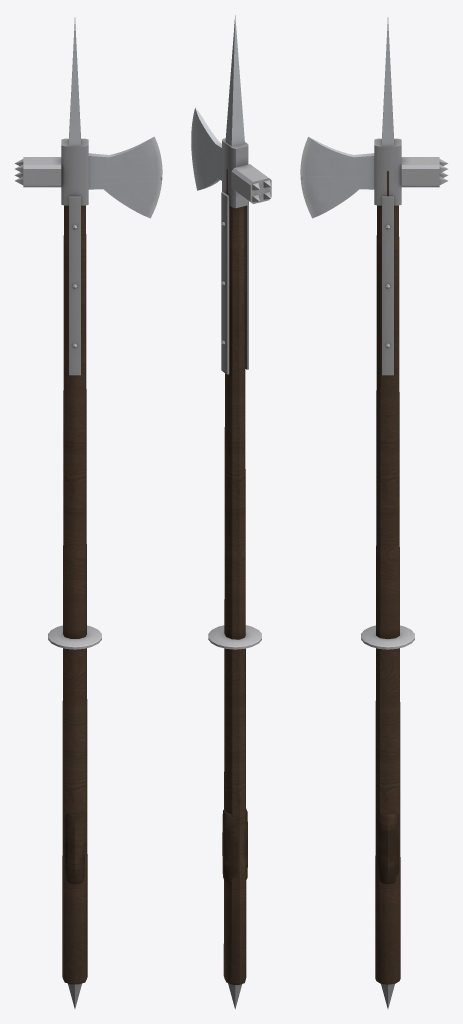
Rendered from poleaxe.glb.
3 views of the same model, side by side, from view 1: azimuth 90°, elevation 25°; view 2: azimuth 210°, elevation 25°; view 3: azimuth 270°, elevation 25° (orthographic).
Parts seen in each view (by area): view 1: SM_V_poleaxe, SM_V_poleaxe_Faste; view 2: SM_V_poleaxe, SM_V_poleaxe_Faste; view 3: SM_V_poleaxe, SM_V_poleaxe_Faste.
Part boxes in pixels (<box>): SM_V_poleaxe: <box>14,17,162,1008</box>; SM_V_poleaxe_Faste: <box>48,224,101,649</box>; SM_V_poleaxe: <box>191,15,271,1009</box>; SM_V_poleaxe_Faste: <box>208,222,261,649</box>; SM_V_poleaxe: <box>300,17,448,1008</box>; SM_V_poleaxe_Faste: <box>361,224,414,649</box>.
Size of the model in its own units: 0.1 by 2.01 by 0.2715.
Materials: 1 (1 with a texture image).
